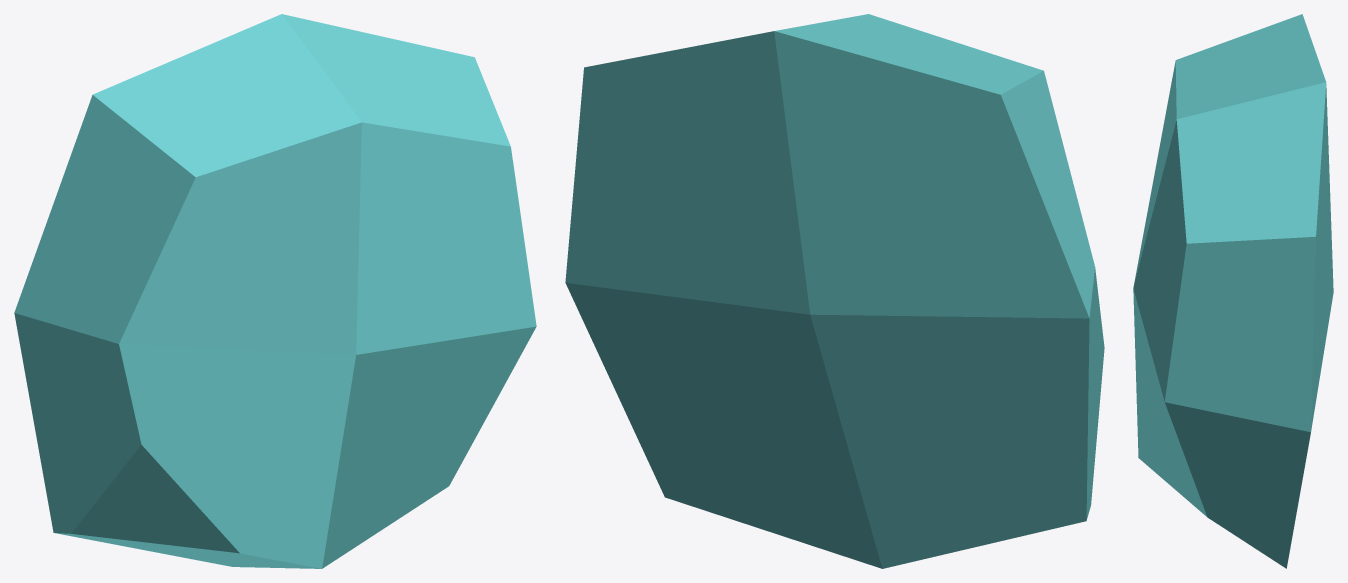
Rendered from MagicStone4.fbx.
3 renders of one model, left to right at view 1: azimuth 30°, elevation 25°; view 2: azimuth 150°, elevation 25°; view 3: azimuth 270°, elevation 25°, orthographic. The views are drawn at different scales.
Parts seen in each view (by area): view 1: cristal4; view 2: cristal4; view 3: cristal4.
Boxes of the visible parts, x1,y1,x2,y2 form: cristal4: [14, 14, 536, 568]; cristal4: [565, 14, 1104, 568]; cristal4: [1133, 14, 1333, 568].
Bounding box in the file's own units: 91.07 × 91 × 36.56.
